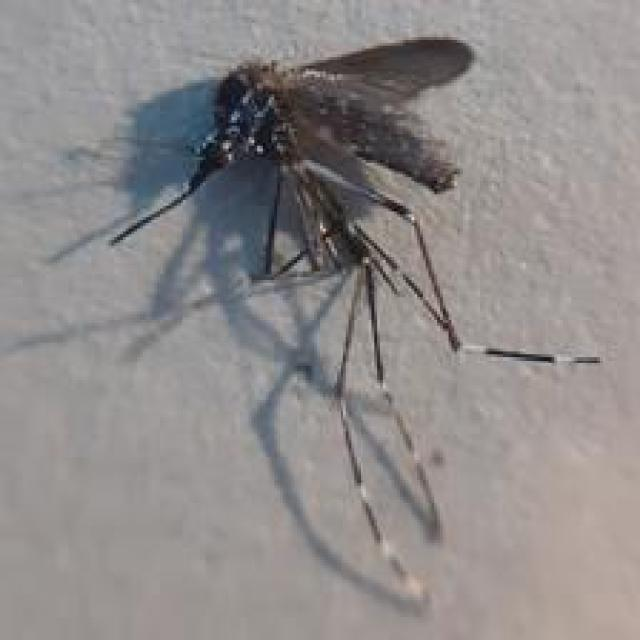Aedes albopictus: (46, 33, 603, 613)
